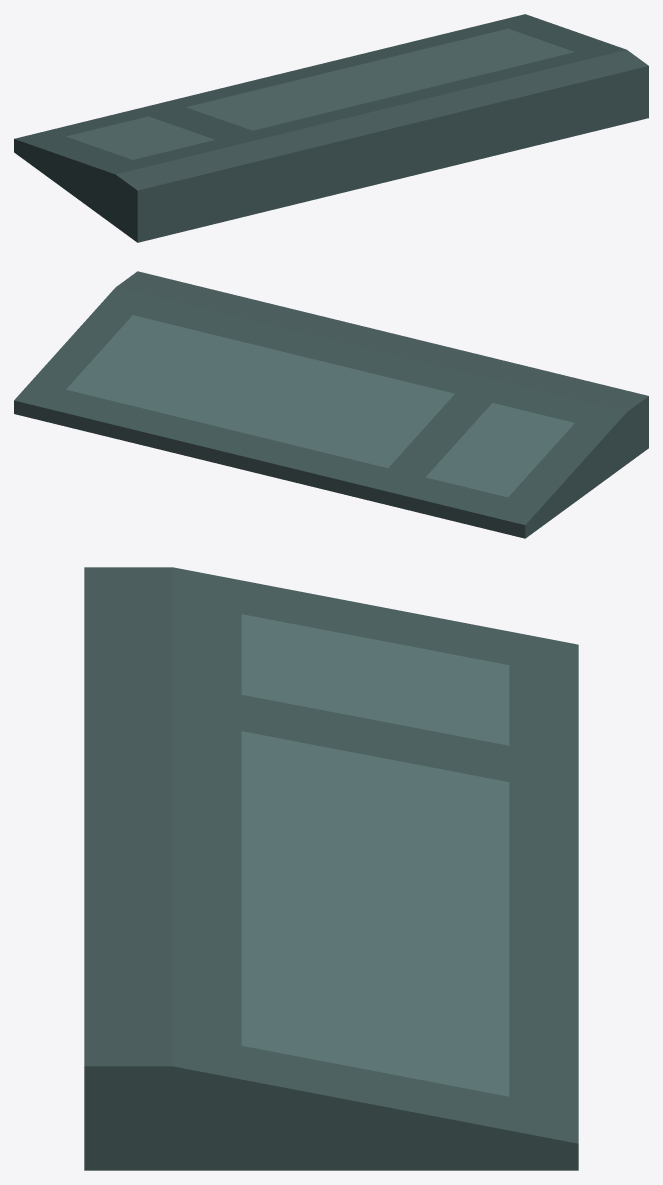
The model's file is Tech_Computer_Keyboard.glb.
3 views of the same model, one above another, from view 1: azimuth 30°, elevation 25°; view 2: azimuth 150°, elevation 25°; view 3: azimuth 270°, elevation 25° (orthographic). The views are drawn at different scales.
Visible parts, largest first — view 1: computerKeyboard; view 2: computerKeyboard; view 3: computerKeyboard.
Part boxes in pixels (left/top/right/bottom): computerKeyboard: left=14, top=14, right=648, bottom=242; computerKeyboard: left=14, top=271, right=648, bottom=538; computerKeyboard: left=84, top=567, right=578, bottom=1170.
Bounding box in the file's own units: 0.2822 × 0.0276 × 0.1182.
